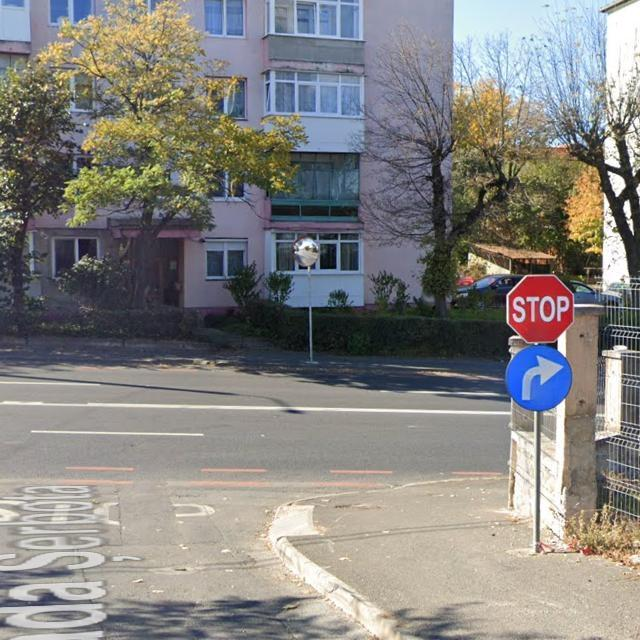prio_stop: (506, 274, 576, 344)
